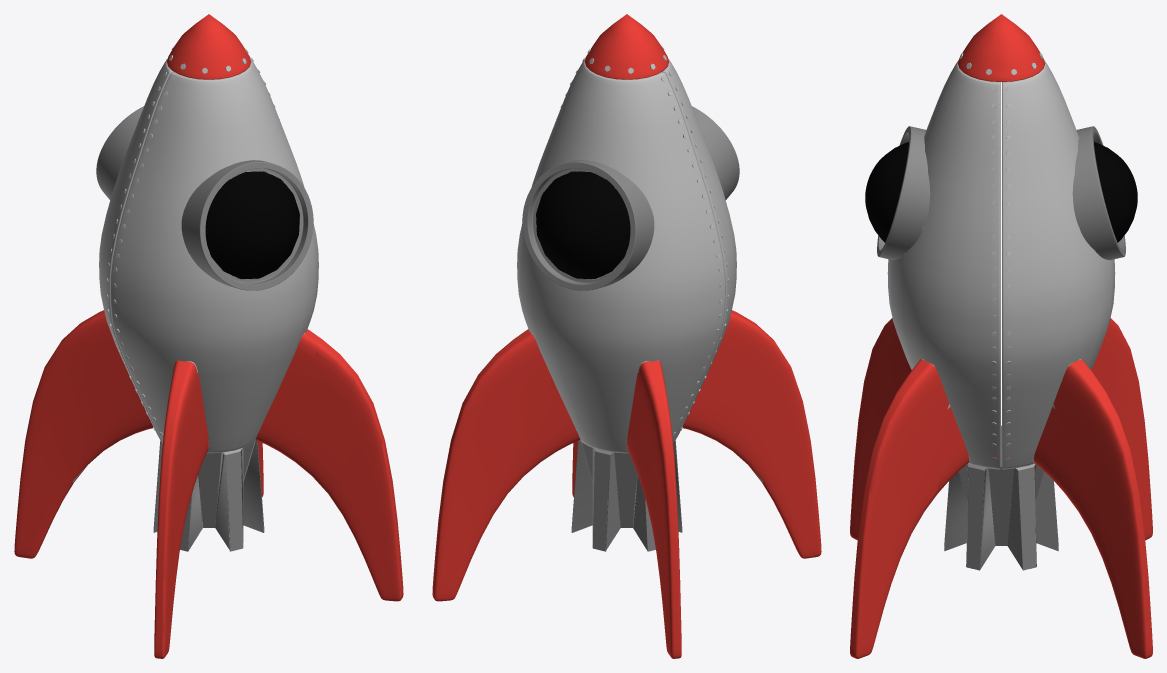
File: rocket.glb
3 views of the same model, side by side, from view 1: azimuth 30°, elevation 25°; view 2: azimuth 150°, elevation 25°; view 3: azimuth 270°, elevation 25° (orthographic). The views are drawn at different scales.
Parts seen in each view (by area): view 1: rocket; view 2: rocket; view 3: rocket.
Part boxes in pixels (box(x1,y1,x2,y2)): rocket: box(14, 14, 403, 658); rocket: box(432, 14, 821, 658); rocket: box(850, 14, 1152, 658).
Bounding box in the file's own units: 2.11 × 4.58 × 2.15.
